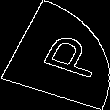P_NW: (15, 27, 95, 83)
